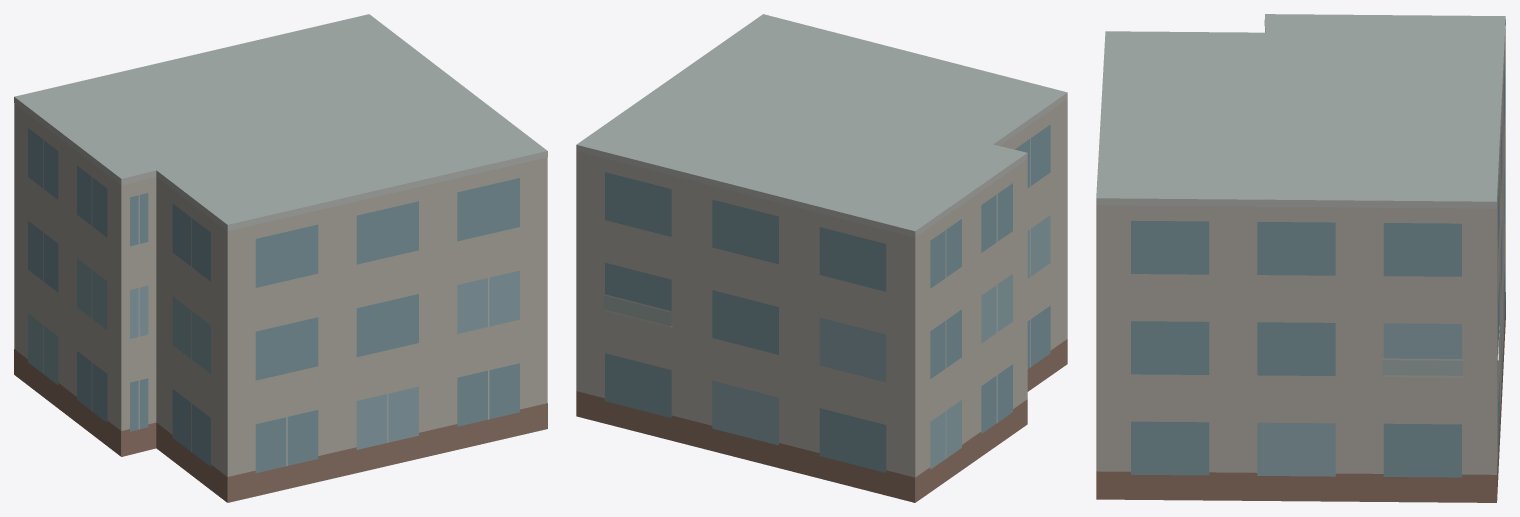
File: survey-upis-32718346.glb
3 renders of one model, left to right at view 1: azimuth 30°, elevation 25°; view 2: azimuth 150°, elevation 25°; view 3: azimuth 270°, elevation 25°, orthographic. The views are drawn at different scales.
Parts seen in each view (by area): view 1: survey-upis-32718346.tmp; view 2: survey-upis-32718346.tmp; view 3: survey-upis-32718346.tmp.
Boxes of the visible parts, x1=… form: survey-upis-32718346.tmp: x1=14, y1=14, x2=547, y2=502; survey-upis-32718346.tmp: x1=576, y1=14, x2=1067, y2=502; survey-upis-32718346.tmp: x1=1096, y1=14, x2=1505, y2=502.
Size of the model in its own units: 14.32 by 10.7 by 13.2.
